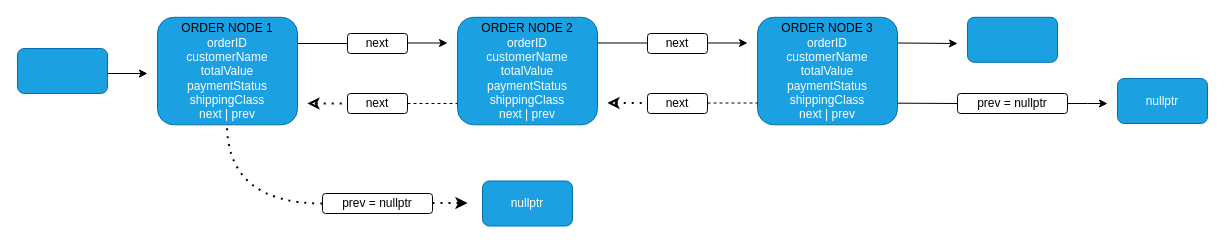
This 1225x244 diagram has some shape labels left out. The centre of each missing label's shape, as x and y in pixels:
"head" belongs at (62,71).
"tail" belongs at (1012,39).
